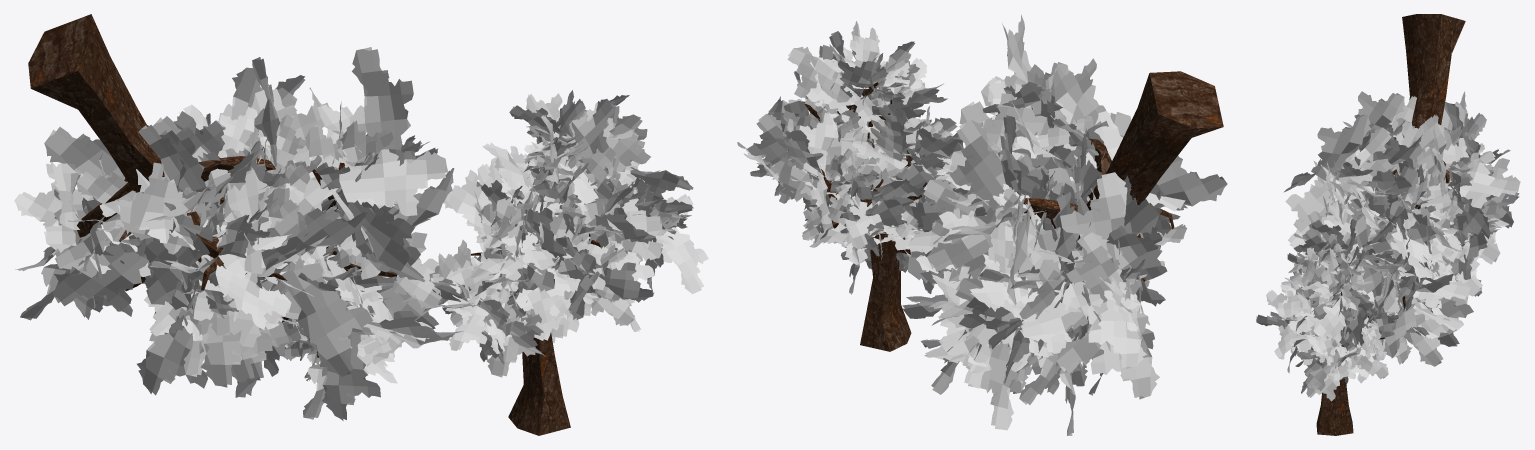
Rendered from TREEBOSS.fbx.
3 renders of one model, left to right at view 1: azimuth 30°, elevation 25°; view 2: azimuth 150°, elevation 25°; view 3: azimuth 270°, elevation 25°, orthographic. The views are drawn at different scales.
Visible parts, largest first — view 1: 3877913c9ee8911a740fcf2bfdaed610, 3877913c9ee8911a740fcf2bfdaed610.037; view 2: 3877913c9ee8911a740fcf2bfdaed610, 3877913c9ee8911a740fcf2bfdaed610.037; view 3: 3877913c9ee8911a740fcf2bfdaed610, 3877913c9ee8911a740fcf2bfdaed610.037.
Boxes of the visible parts, x1,y1,x2,y2 form: 3877913c9ee8911a740fcf2bfdaed610: [14, 14, 463, 420]; 3877913c9ee8911a740fcf2bfdaed610.037: [422, 90, 708, 435]; 3877913c9ee8911a740fcf2bfdaed610: [902, 14, 1227, 435]; 3877913c9ee8911a740fcf2bfdaed610.037: [737, 21, 973, 351]; 3877913c9ee8911a740fcf2bfdaed610: [1283, 14, 1520, 366]; 3877913c9ee8911a740fcf2bfdaed610.037: [1256, 211, 1398, 435].
Size of the model in its own units: 13.76 by 9.67 by 7.87.
2 materials, 1 textured.
